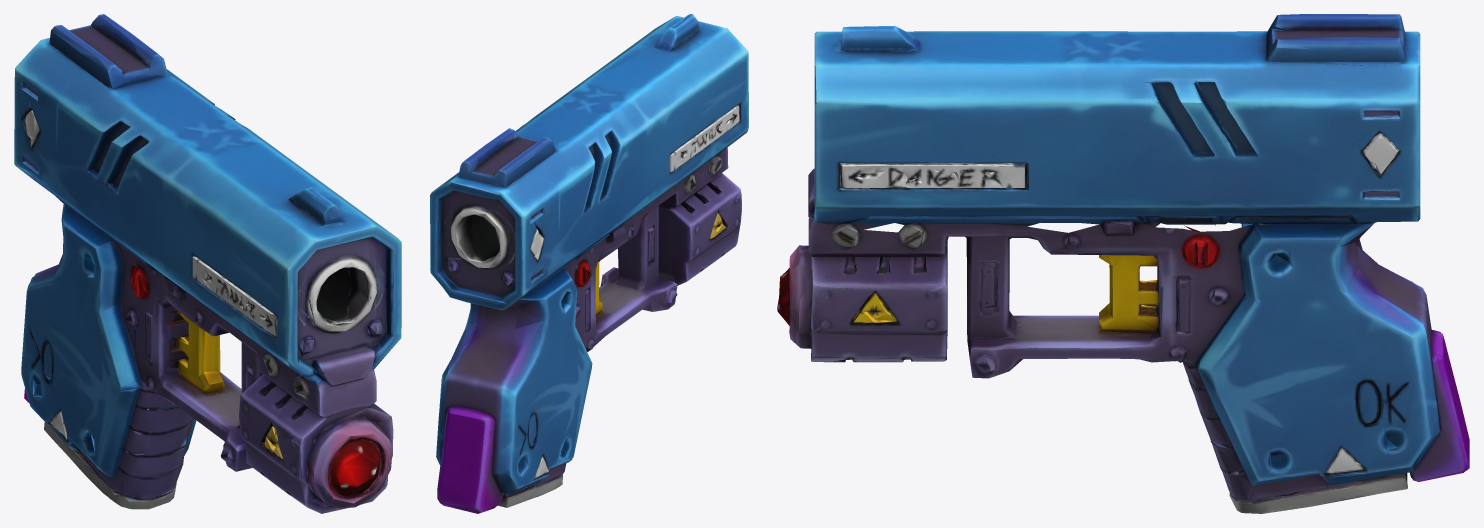
Rendered from laser_blaster.high.glb.
3 renders of one model, left to right at view 1: azimuth 30°, elevation 25°; view 2: azimuth 150°, elevation 25°; view 3: azimuth 270°, elevation 25°, orthographic. The views are drawn at different scales.
Parts seen in each view (by area): view 1: model; view 2: model; view 3: model.
Boxes of the visible parts, x1,y1,x2,y2 form: model: (14, 14, 401, 513); model: (430, 14, 748, 513); model: (777, 14, 1469, 513).
Bounding box in the file's own units: 0.0526 × 0.1895 × 0.25.
1 material, 1 textured.
